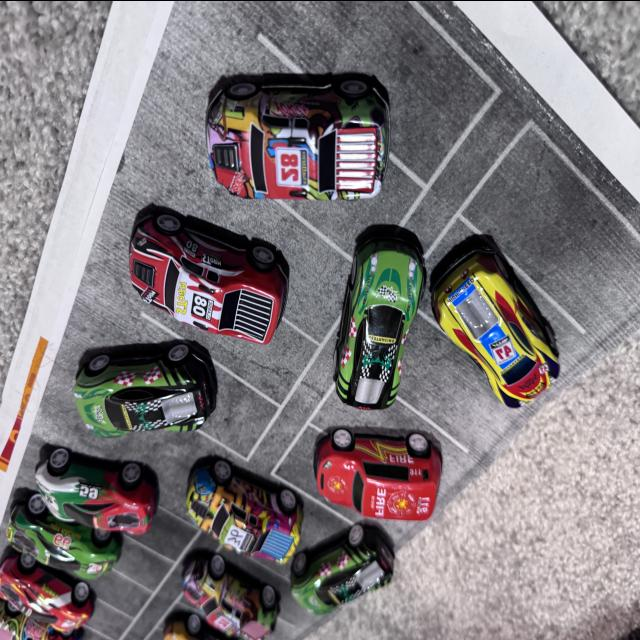Car: (194, 68, 420, 194), (330, 218, 440, 449), (73, 351, 270, 478), (110, 190, 254, 356), (32, 442, 194, 568), (432, 199, 528, 410), (3, 502, 154, 636), (314, 416, 460, 550), (268, 535, 398, 626), (175, 528, 274, 632), (178, 480, 302, 542), (0, 565, 90, 622), (181, 532, 345, 542)
